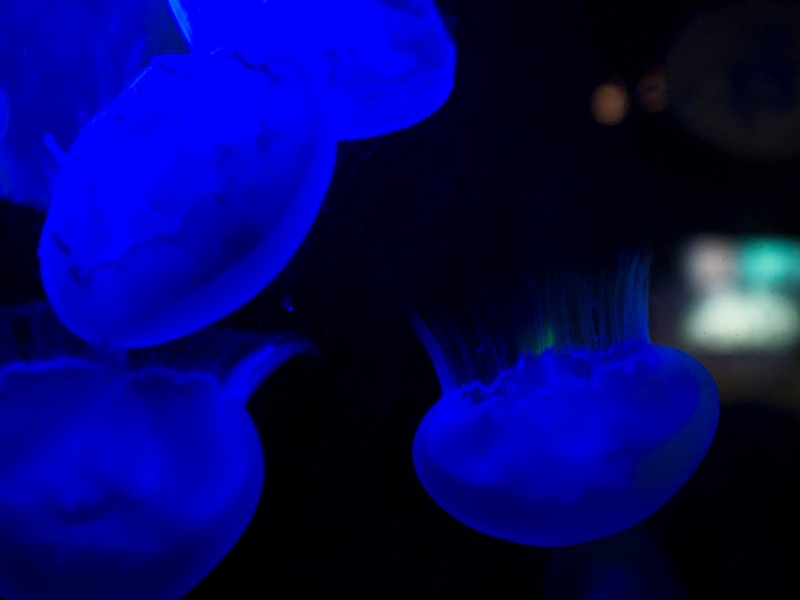Jellyfish: (394, 243, 716, 546), (32, 48, 338, 355), (0, 355, 291, 599), (169, 0, 456, 141)
